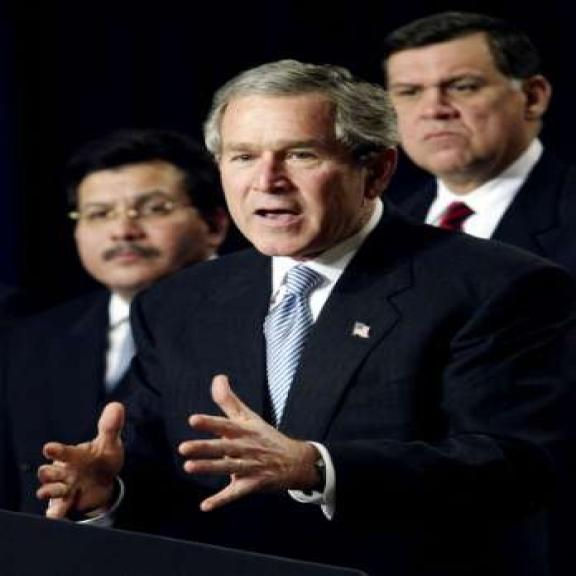face: (216, 107, 394, 257), (383, 38, 556, 178), (77, 170, 232, 288)
